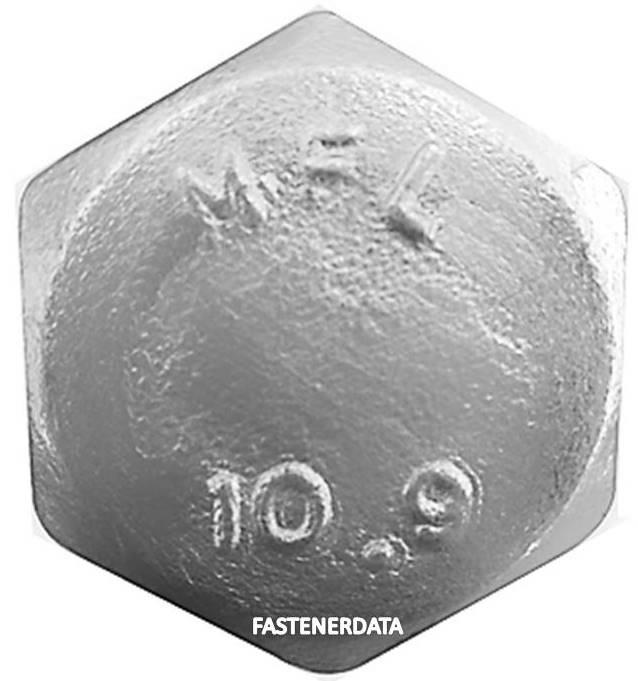screw: (22, 9, 626, 670)
